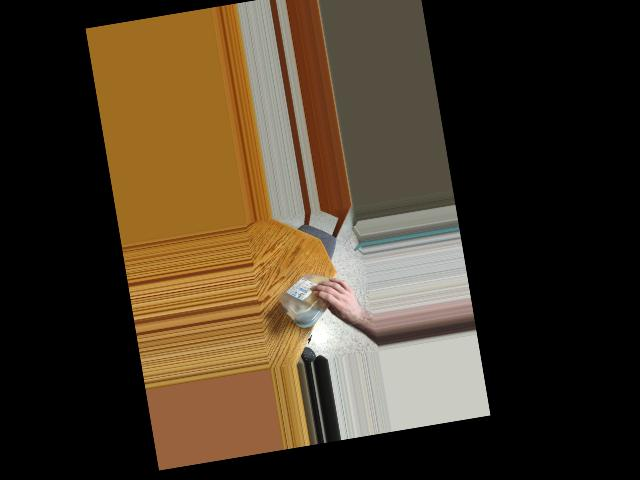cheese: (274, 267, 349, 328)
